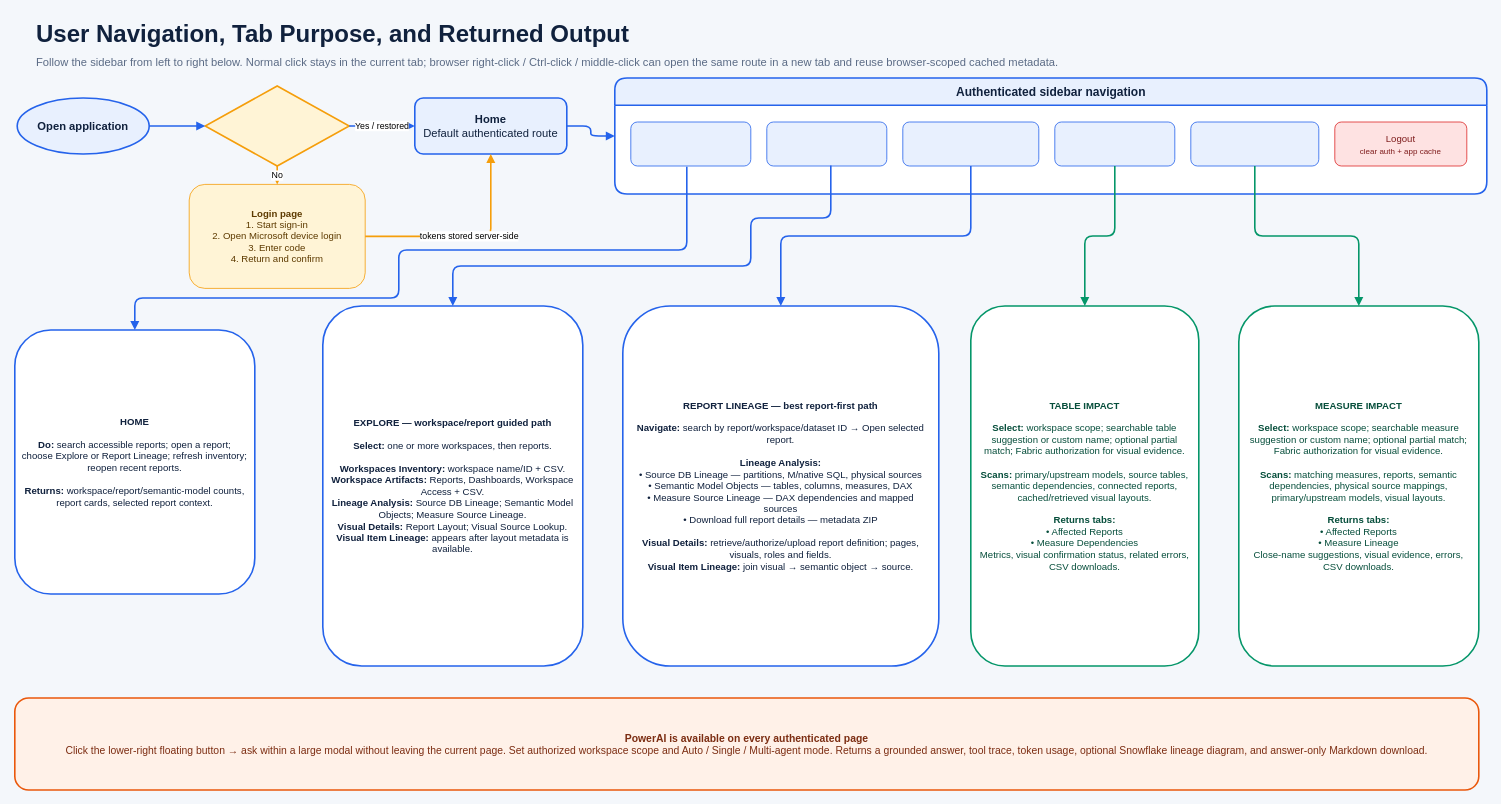
The diagram is 1501 pixels wide and 804 high, and some of its shapes have lost their labels. The shapes that lost their labels are listed below. From the top down, each one's centre as x and y in pixels, then its label:
At point 277,125: "Authenticated session available?".
At point 690,143: "Home".
At point 826,143: "Explore".
At point 970,143: "Report Lineage".
At point 1114,143: "Table Impact".
At point 1254,143: "Measure Impact".
